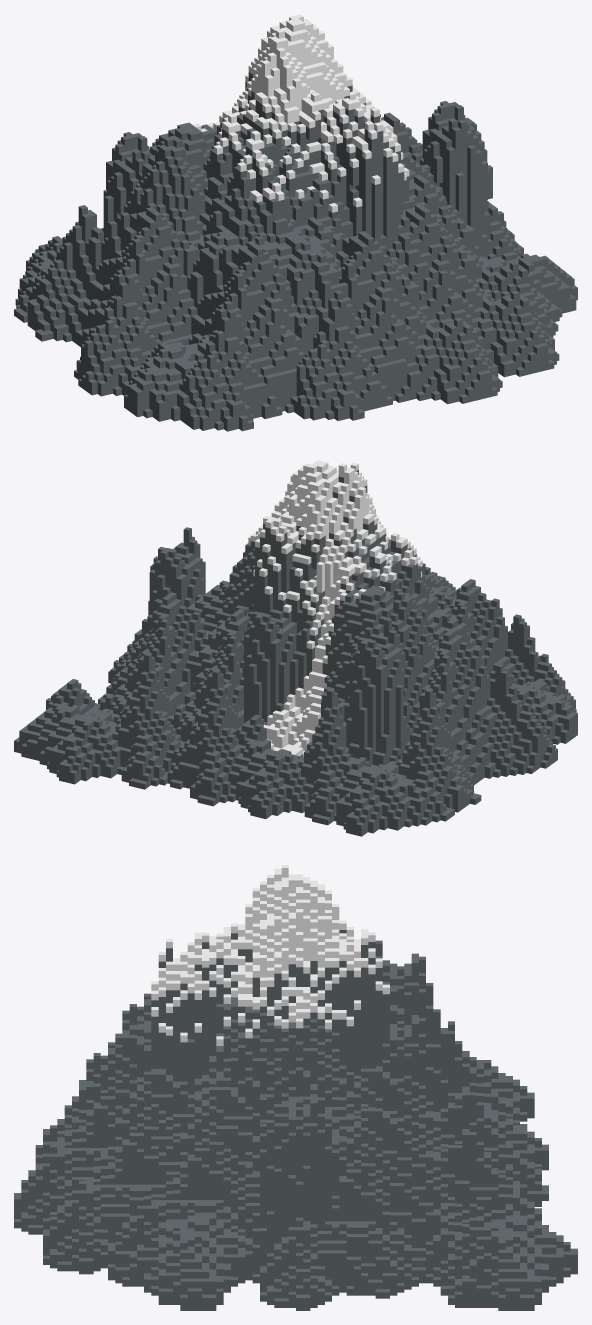
File: big_rocks_2_overtile.obj
The picture shows the model from 3 angles, top to bottom: view 1: azimuth 30°, elevation 25°; view 2: azimuth 150°, elevation 25°; view 3: azimuth 270°, elevation 25°; orthographic projection. The views are drawn at different scales.
Size of the model in its own units: 7.9 by 4.8 by 7.8.
Materials: 1 (1 with a texture image).
